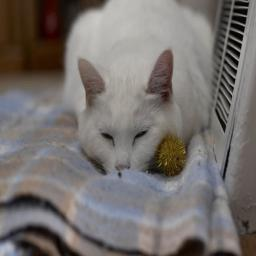catnose: (115, 158, 131, 170)
